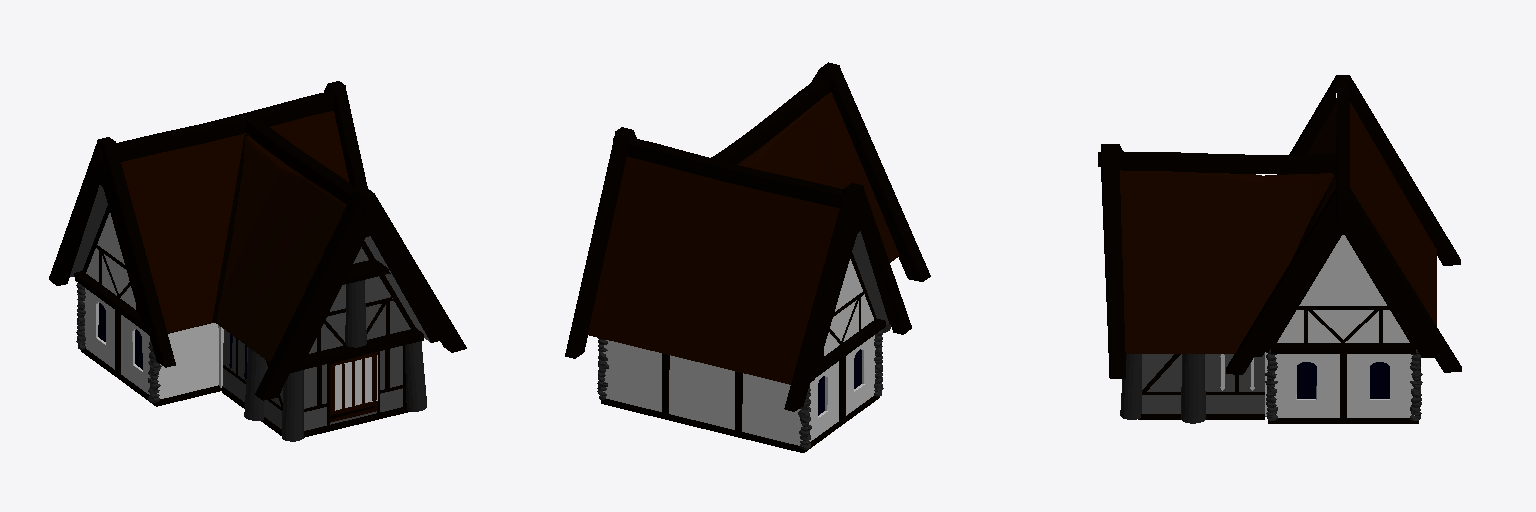
File: medieval_house.obj
3 renders of one model, left to right at view 1: azimuth 30°, elevation 25°; view 2: azimuth 150°, elevation 25°; view 3: azimuth 270°, elevation 25°, orthographic.
Visible parts, largest first — view 1: Cube.006_Cube.012, Cube.003_Cube.011, Cube.005_Cube.007, Cube.009_Cube.013, Cube.007_Cube.016, Cube.001_Cube.010, BreezehomeFraming_Cube.004, Cube.014_Cube.023, Cylinder, Cube.008_Cube.017, BreezehomeDoor_Cube.001, Cube.011_Cube.020 (+4 smaller); view 2: Cube.006_Cube.012, Cube.005_Cube.007, Cube.009_Cube.013, Cube.003_Cube.011, Cube.014_Cube.023, Cube.007_Cube.016, BreezehomeFraming.003_Cube.042, Cube.011_Cube.020, Cube.013_Cube.022, RockStack_Cube.091, BreezehomeFraming.002_Cube.000; view 3: Cube.003_Cube.011, Cube.005_Cube.007, Cube.009_Cube.013, Cube.006_Cube.012, Cube.001_Cube.010, Cube.011_Cube.020, Cube.007_Cube.016, BreezehomeFraming.003_Cube.042, Cube.013_Cube.022, Cube.014_Cube.023, Cylinder.001, RockStack_Cube.091 (+3 smaller).
Part boxes in pixels (x1,y1,x2,y2): Cube.006_Cube.012: (121,111,348,332); Cube.003_Cube.011: (216,135,346,361); Cube.005_Cube.007: (83,213,218,398); Cube.009_Cube.013: (49,86,367,367); Cube.007_Cube.016: (255,190,466,400); Cube.001_Cube.010: (223,247,410,430); BreezehomeFraming_Cube.004: (222,241,423,437); Cube.014_Cube.023: (95,81,374,214); Cylinder: (282,280,426,441); Cube.008_Cube.017: (290,223,442,372); BreezehomeDoor_Cube.001: (330,352,377,422); Cube.011_Cube.020: (246,117,374,225); Cube.006_Cube.012: (588,156,839,384); Cube.005_Cube.007: (603,259,875,445); Cube.009_Cube.013: (565,133,911,411); Cube.003_Cube.011: (737,92,899,262); Cube.014_Cube.023: (613,127,864,219); Cube.007_Cube.016: (811,66,930,281); BreezehomeFraming.003_Cube.042: (601,253,885,452); Cube.011_Cube.020: (711,62,839,164); Cube.013_Cube.022: (810,216,896,382); RockStack_Cube.091: (597,330,883,449); BreezehomeFraming.002_Cube.000: (662,353,845,433); Cube.003_Cube.011: (1120,170,1333,353); Cube.005_Cube.007: (1274,235,1414,417); Cube.009_Cube.013: (1226,75,1461,374); Cube.006_Cube.012: (1306,98,1436,325); Cube.001_Cube.010: (1142,353,1266,416); Cube.011_Cube.020: (1101,144,1335,173); Cube.007_Cube.016: (1101,150,1125,378); BreezehomeFraming.003_Cube.042: (1268,235,1418,423); Cube.013_Cube.022: (1258,222,1433,357); Cube.014_Cube.023: (1098,75,1349,221); Cylinder.001: (1181,354,1205,423); RockStack_Cube.091: (1265,349,1422,420).
Bounding box in the file's own units: 4.16 × 3.81 × 5.18.